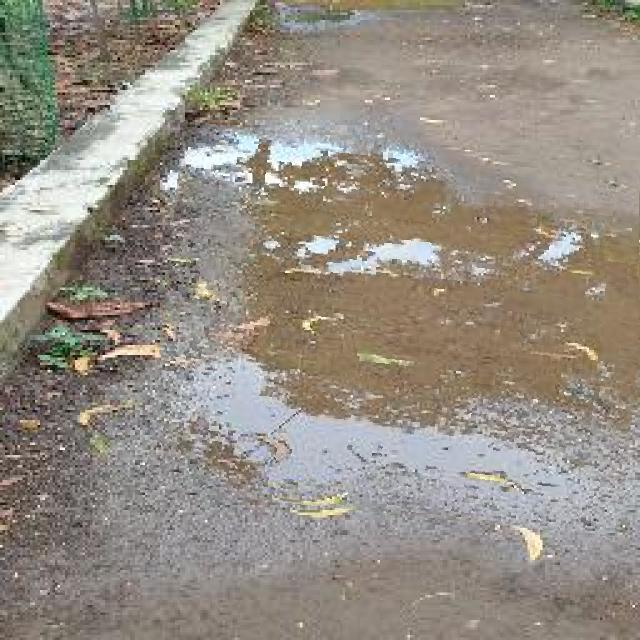puddle: (155, 134, 640, 526)
